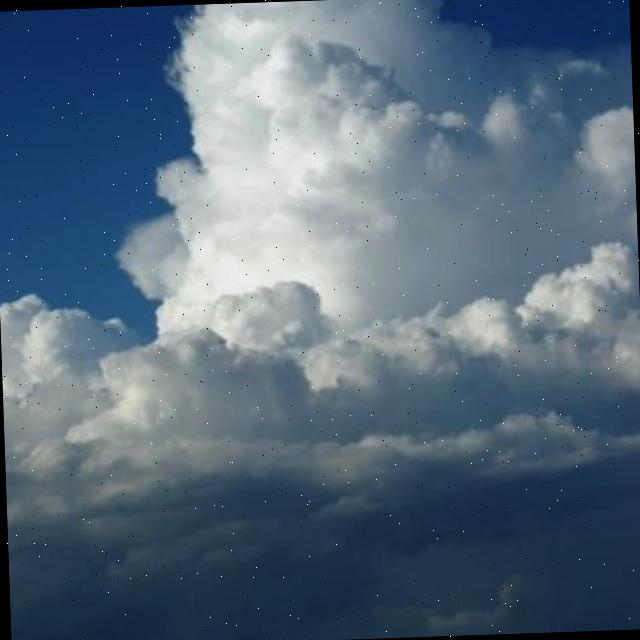Cb: (1, 1, 640, 622)
